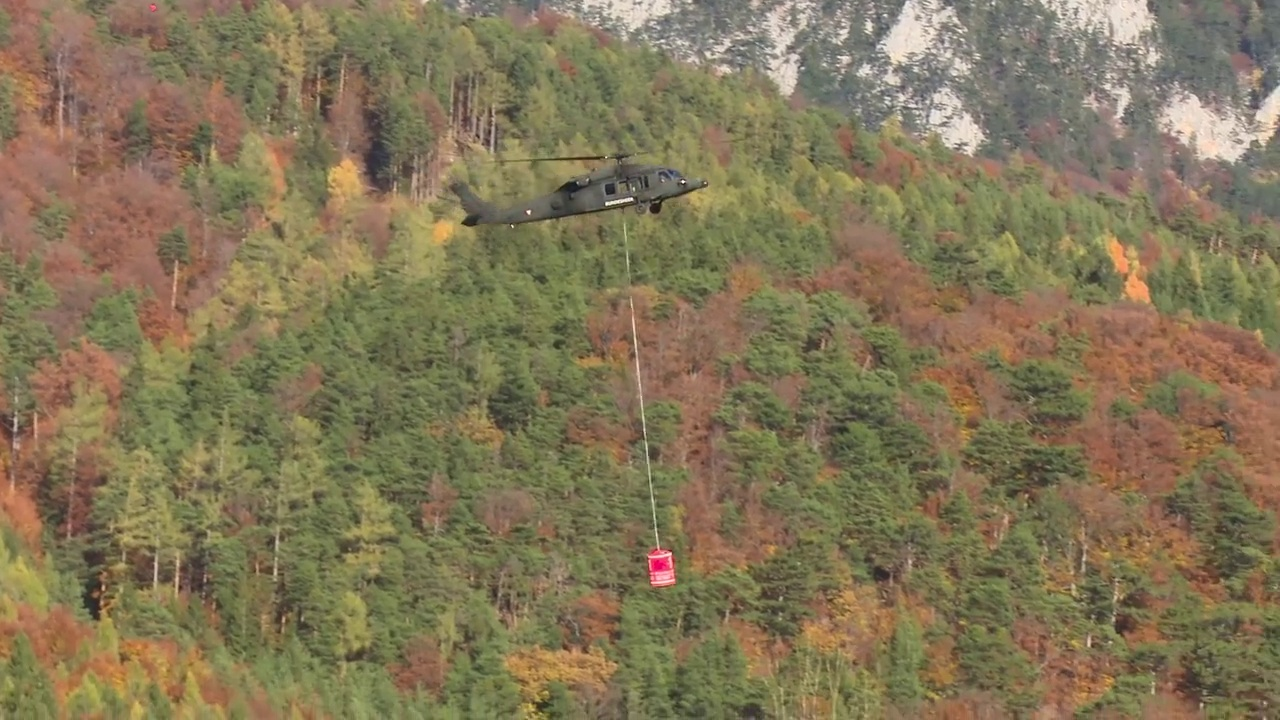heli: (446, 155, 712, 231)
